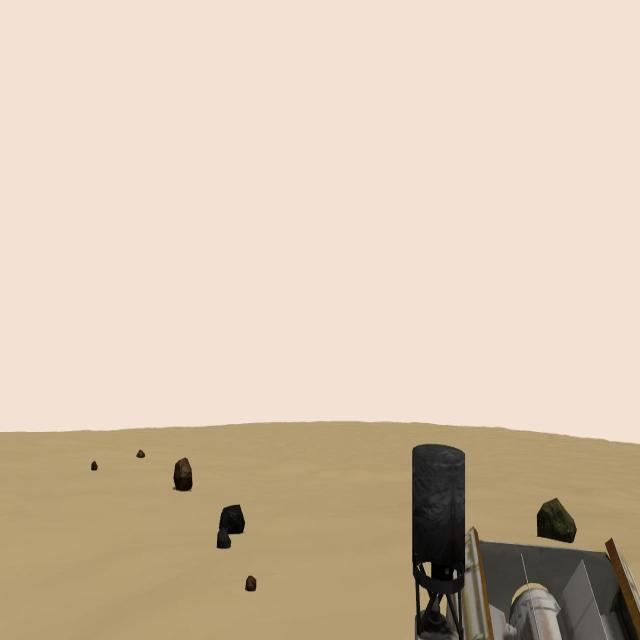rock: (537, 497, 577, 543), (220, 504, 246, 535), (174, 457, 193, 491), (217, 529, 232, 549), (246, 572, 256, 590), (90, 459, 98, 471), (136, 448, 145, 458)
